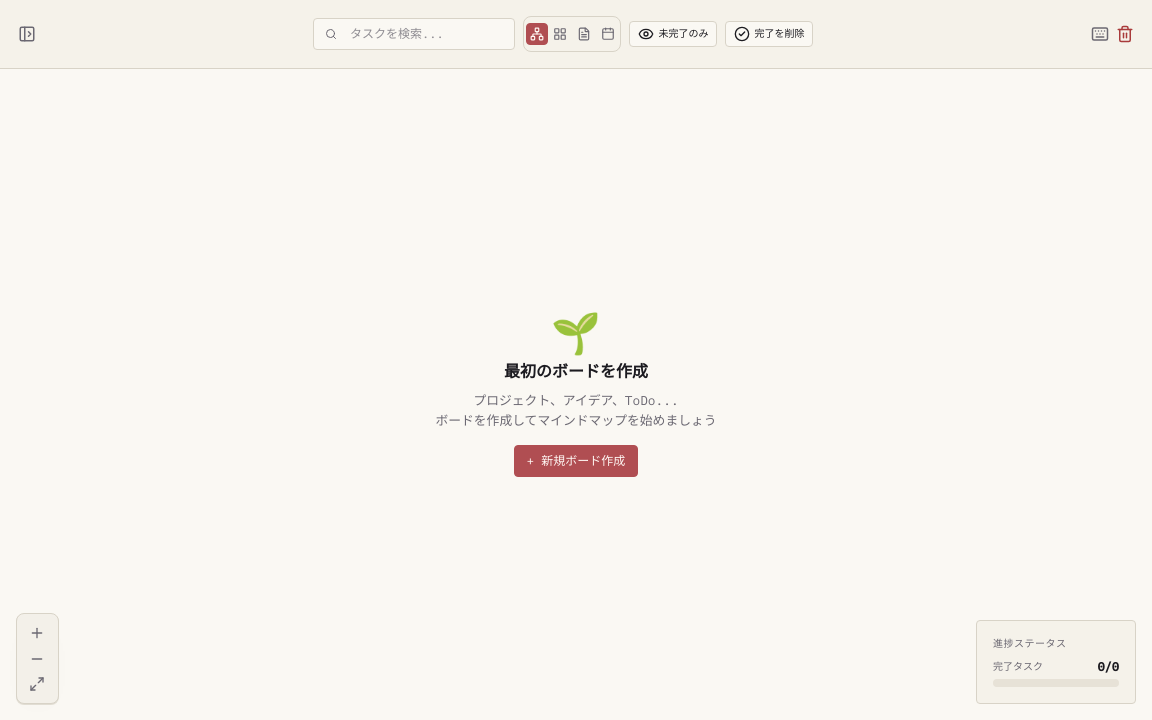
Test: centering on new node › + button in mindmap opens inline edit, not modal
Click the button "+ 新規ボード作成": (576,461) [514,445,638,477]
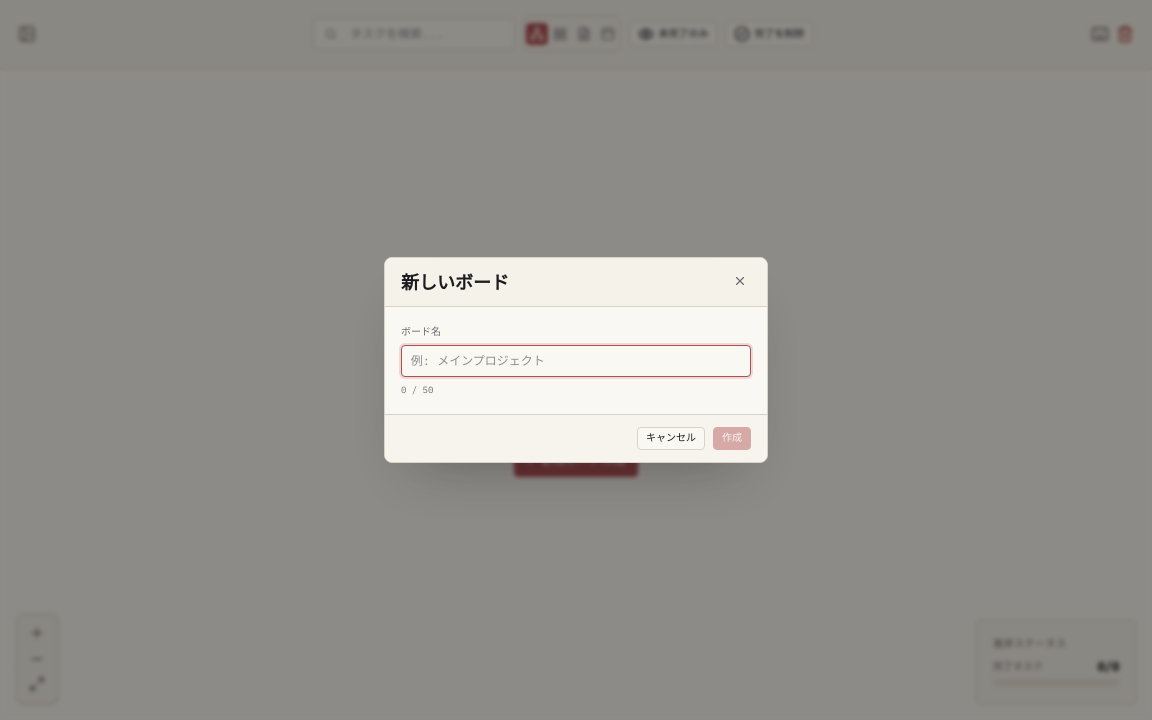
In the field with placeholder "例: メインプロジェクト": (576,361) [401,345,751,377], type "Test"
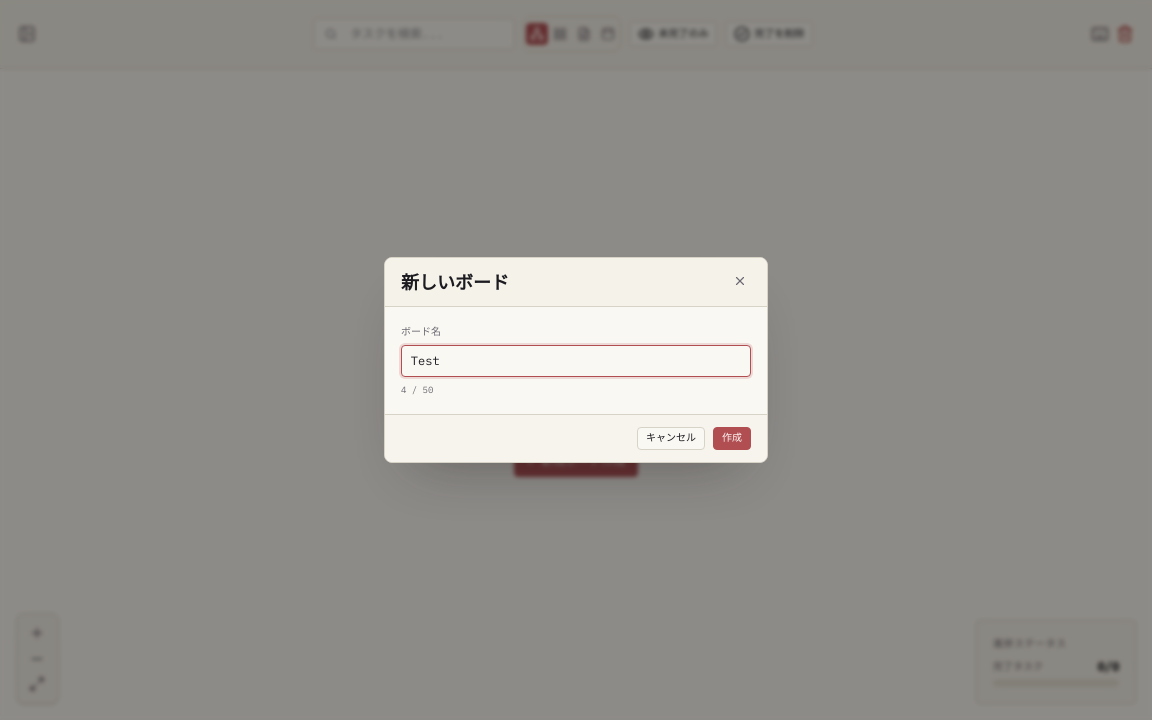
Click the button "作成": (732,438) [713,426,751,450]
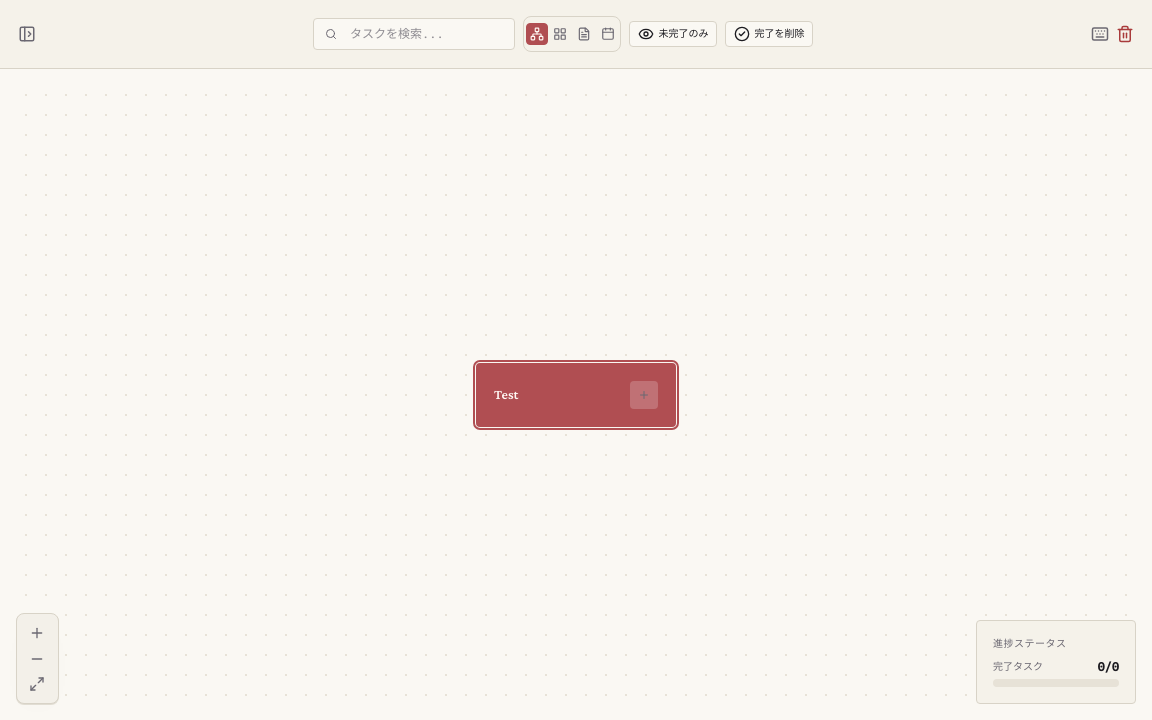
Check: the button with test id "add-child-root" is shown
Click the button with test id "add-child-root": (644,394) [630,380,658,408]
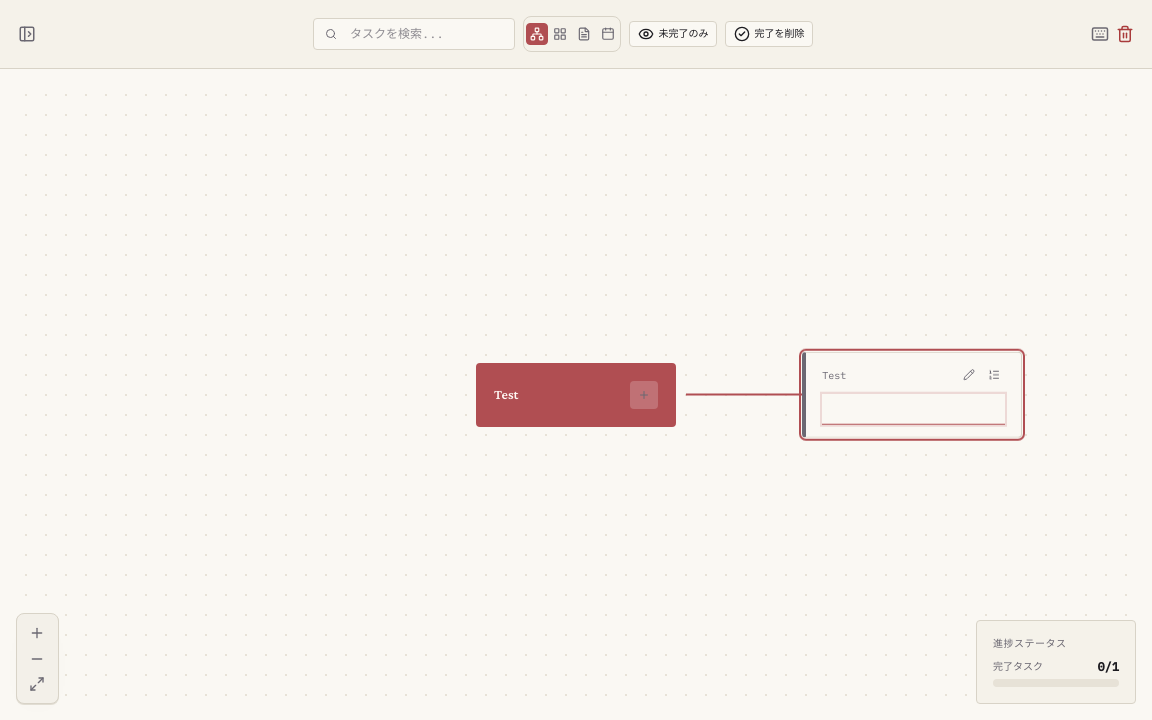
Check: the field with test id "inline-edit-input" is shown, box [830,394,1014,425]
